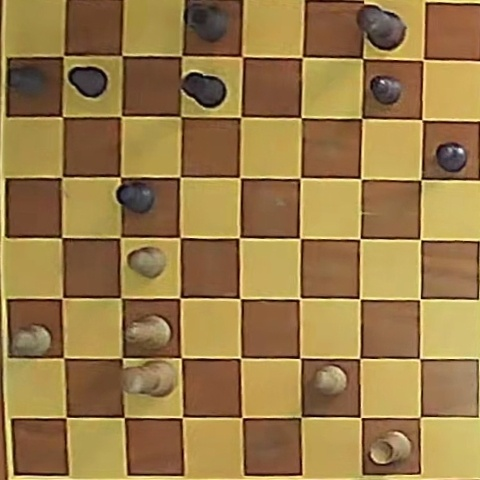black-king: (357, 5, 407, 50)
black-pawn: (68, 66, 108, 99), (117, 182, 155, 214), (9, 66, 47, 96), (371, 76, 403, 105), (435, 143, 467, 172)
black-rook: (186, 2, 228, 42), (182, 72, 226, 108)
white-bishop: (126, 314, 171, 349)
white-king: (124, 361, 175, 396)
white-pawn: (11, 324, 51, 356), (128, 247, 167, 278), (314, 365, 347, 395)
white-rook: (370, 431, 411, 465)
